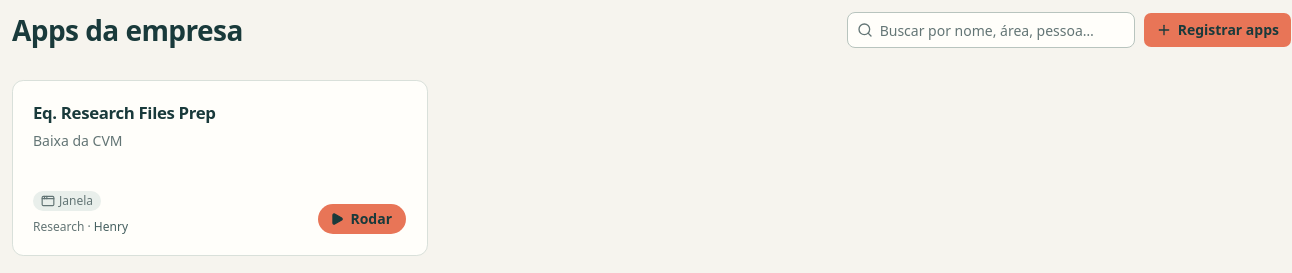
Test: search has a name and can be cleared
Type "xyz" into the search field named "Buscar apps".
click(991, 30); type("xyz")  # box [847, 12, 1135, 48]
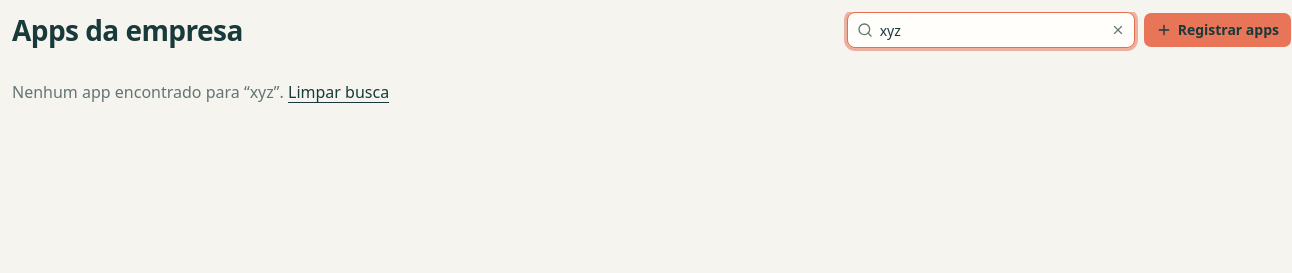
Result: the text "Nenhum app encontrado para “xyz”. Limpar busca" is shown at [12, 80, 389, 104]
Click the button named "Limpar busca".
click(1118, 30)  # box [1107, 19, 1129, 41]
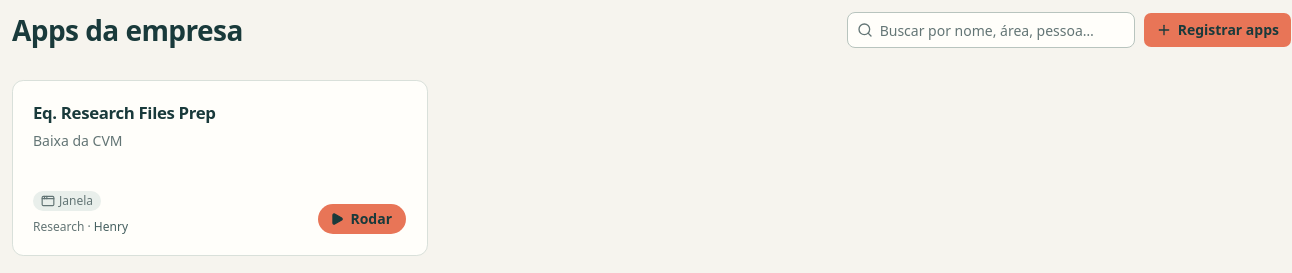
Result: the search field named "Buscar apps" is empty at [847, 12, 1135, 48]
Result: the link "Eq. Research Files Prep" is shown at [33, 101, 216, 124]
